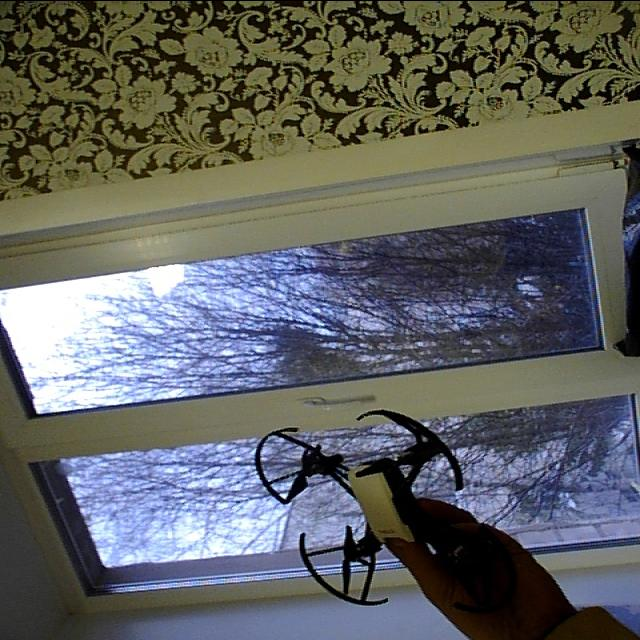drone: (247, 399, 501, 613)
